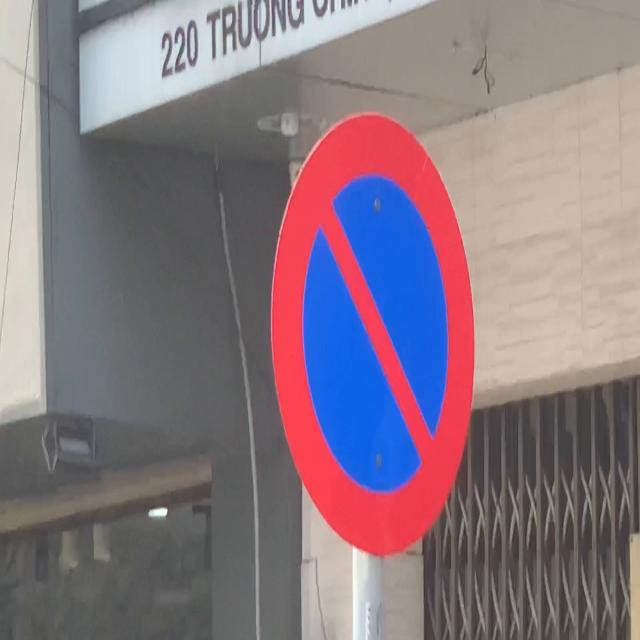Cam do: (268, 112, 476, 557)
